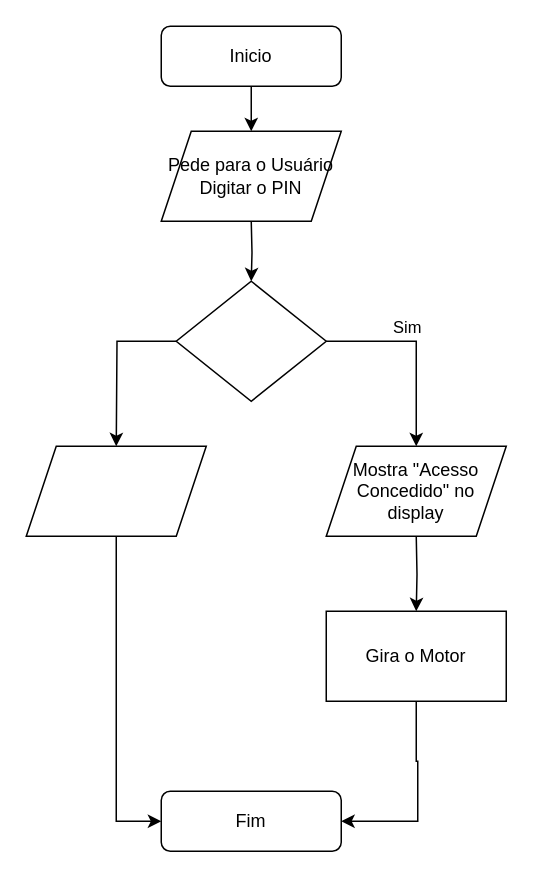
This 533x878 diagram has some shape labels left out. The box of each missing label's shape, as (x1, y1, x2, y2) in pixels:
Mostra "Acesso Negado" no display: (25, 445, 206, 536)
PIN Correto?: (175, 280, 326, 401)
